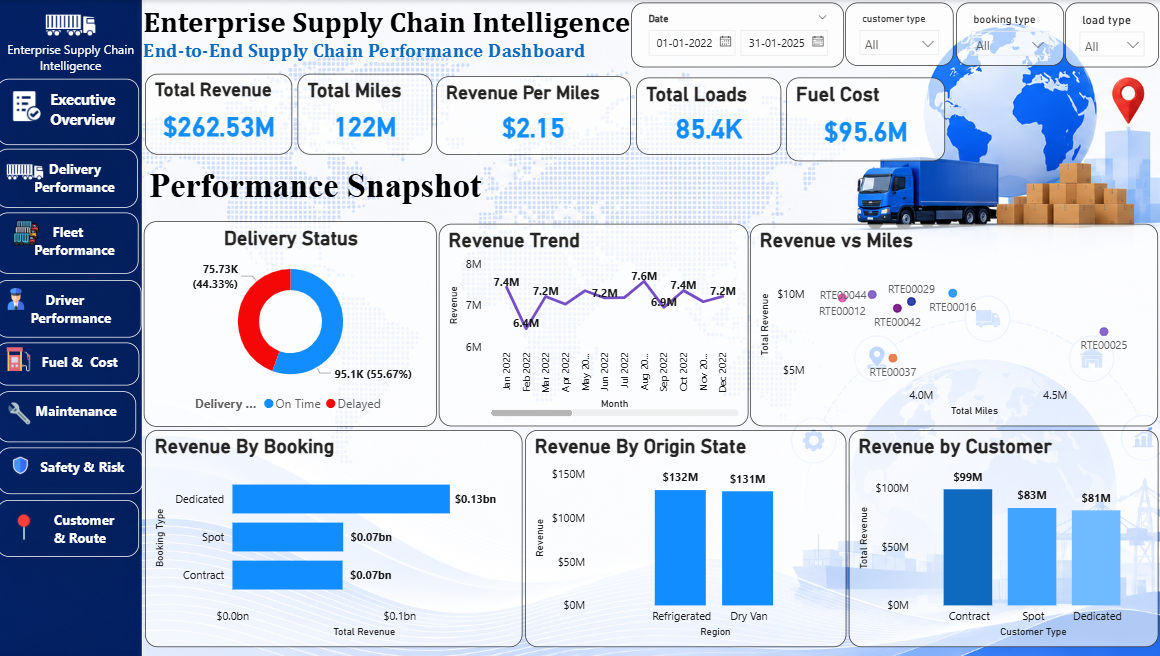

What the dashboard file says about the page in this screenshot:
{"tool":"powerbi","page":{"name":"Executive Overview","canvas":[1280,720],"ordinal":0},"visuals":[{"type":"textbox","box":[157.8,0,557.1,100.2],"z":0},{"type":"card","title":"Total Revenue","fields":{"Values":["All Measures.Total Revenue"]},"box":[164.8,80.5,161.9,89.2],"z":0,"group":"g10"},{"type":"clusteredColumnChart","title":"Revenue By Origin State","fields":{"Y":["All Measures.Total Revenue"],"Category":["FactLoadsTrips.load_type"]},"box":[581.9,472,352.8,238.1],"z":0,"group":"g12"},{"type":"textbox","box":[2.8,491.7,159.9,51.4],"z":0,"group":"g4"},{"type":"image","box":[1.4,0,163.3,54.9],"z":1000,"group":"g3"},{"type":"card","title":"Total Miles","fields":{"Values":["All Measures.Total Miles"]},"box":[332.5,80.5,147.8,88.8],"z":1000,"group":"g10"},{"type":"group","id":"g1","title":"Group 1","box":[0,163.6,156.4,64.5],"z":1000},{"type":"clusteredBarChart","title":"Revenue By Booking","fields":{"Category":["FactLoadsTrips.booking_type"],"Y":["All Measures.Total Revenue"]},"box":[164.7,472,414.4,238.1],"z":1000,"group":"g12"},{"type":"image","box":[8.6,501,39,19.7],"z":1000,"group":"g4"},{"type":"textbox","box":[1.4,40.3,163.3,47.6],"z":2000,"group":"g3"},{"type":"card","title":"Revenue Per Miles","fields":{"Values":["All Measures.Revenue Per Miles"]},"box":[484.6,83.2,213.2,86],"z":2000,"group":"g10"},{"type":"group","id":"g2","title":"Group 3","box":[1.4,85.8,156.4,72.7],"z":2000},{"type":"clusteredColumnChart","title":"Revenue by Customer","fields":{"Category":["DimCustomers.customer_type"],"Y":["All Measures.Total Revenue"]},"box":[937.4,472.6,340.2,238.1],"z":2000,"group":"g12"},{"type":"group","id":"g3","title":"Group 4","box":[1.4,0,163.3,87.8],"z":3000},{"type":"card","title":"Total Loads","fields":{"Values":["All Measures.Total Loads"]},"box":[703.5,84.6,159.2,84.7],"z":3000,"group":"g10"},{"type":"textbox","box":[1.4,548.7,157.1,62.6],"z":3000,"group":"g6"},{"type":"card","title":"Fuel Cost","fields":{"Values":["All Measures.Total Fuel Cost"]},"box":[868.4,84.2,174.3,91.9],"z":4000,"group":"g10"},{"type":"textbox","box":[1.4,429.2,153.7,56.3],"z":4000,"group":"g5"},{"type":"group","id":"g4","title":"Group 7","box":[2.8,491.7,159.9,51.4],"z":4000},{"type":"textbox","box":[0,376.2,158.5,47.3],"z":5000,"group":"g7"},{"type":"group","id":"g5","title":"Group 8","box":[1.4,429.2,153.7,56.3],"z":5000},{"type":"textbox","box":[1.4,85.8,156.4,72.7],"z":6000,"group":"g2"},{"type":"textbox","box":[0,307.4,160.5,63.1],"z":6000,"group":"g9"},{"type":"group","id":"g6","title":"Group 9","box":[1.4,548.7,157.1,62.6],"z":6000},{"type":"group","id":"g7","title":"Group 10","box":[0,374.9,158.5,48.7],"z":7000},{"type":"group","id":"g8","title":"Group 11","box":[0,233.1,157.8,67.2],"z":8000},{"type":"group","id":"g9","title":"Group 12","box":[0,306.8,160.5,63.7],"z":9000},{"type":"group","id":"g10","title":"Group 2","box":[164.8,80.5,877.9,95.6],"z":10000},{"type":"textbox","box":[0,233.1,157.8,67.2],"z":10000,"group":"g8"},{"type":"group","id":"g11","title":"Group 6","box":[163.3,242.5,1113.8,225.3],"z":11000},{"type":"group","id":"g12","title":"Group 13","box":[164.7,472,1112.9,238.8],"z":12000},{"type":"textbox","box":[0,163.6,156.4,64.5],"z":13000,"group":"g14"},{"type":"textbox","box":[164.7,177,419.9,64.5],"z":13000},{"type":"donutChart","title":"Delivery Status","fields":{"Category":["FactDeliveryEvents.Delivery Performance Status"],"Y":["CountNonNull(FactDeliveryEvents.event_id)"]},"box":[163.3,242.5,321.8,225.3],"z":13000,"group":"g11"},{"type":"image","box":[13.7,99.5,42.5,32.9],"z":13003,"group":"g2"},{"type":"image","box":[4.6,169.4,57.6,39.8],"z":13007,"group":"g14"},{"type":"group","id":"g13","title":"Group 14","box":[698.8,2.1,579.1,72],"z":14000},{"type":"slicer","fields":{"Values":["FactLoadsTrips.booking_type"]},"box":[1055.6,2.1,118,70],"z":14000,"group":"g13"},{"type":"lineChart","title":"Revenue Trend ","fields":{"Category":["Dim_Date.YearMonth"],"Y":["Sum(FactTruckUtilizationMetrics.total_revenue)"]},"box":[486.5,245.3,340,222.5],"z":14000,"group":"g11"},{"type":"slicer","fields":{"Values":["DimCustomers.customer_type"]},"box":[933.4,2.1,119.4,70],"z":15000,"group":"g13"},{"type":"slicer","fields":{"Values":["FactLoadsTrips.load_type"]},"box":[1175,2.1,102.9,71.4],"z":16000,"group":"g13"},{"type":"slicer","fields":{"Values":["Dim_Date.Date"]},"box":[698.8,2.7,233.3,71.4],"z":17000,"group":"g13"},{"type":"scatterChart","title":"Revenue vs Miles","fields":{"Y":["All Measures.Total Revenue"],"X":["All Measures.Total Miles"],"Series":["DimRoutes.route_id"]},"box":[829.3,245.3,447.7,222.5],"z":21004,"group":"g11"},{"type":"group","id":"g14","title":"Group 5","box":[0,163.6,156.4,64.5],"z":27001,"group":"g1"},{"type":"image","box":[12.5,440.9,29.2,23.6],"z":27002,"group":"g5"},{"type":"image","box":[11.1,306.8,23.6,41.7],"z":27006,"group":"g9"},{"type":"image","box":[4.2,242,59.8,29.2],"z":27007,"group":"g8"},{"type":"image","box":[18.3,563.8,28.2,29.6],"z":27008,"group":"g6"},{"type":"image","box":[11.2,374.9,29.3,39],"z":27010,"group":"g7"}]}

Visuals, with their boxes on the page's 1280x720 design canvas (x1, y1, x2, y2). These are canvas units, not pixel positions in the 1160x656 screenshot, which may show the page scaled, cropped or inside an application window:
textbox: bbox=[158, 0, 715, 100]
"Total Revenue" card: bbox=[165, 80, 327, 170]
"Revenue By Origin State" clusteredColumnChart: bbox=[582, 472, 935, 710]
textbox: bbox=[3, 492, 163, 543]
image: bbox=[1, 0, 165, 55]
"Total Miles" card: bbox=[332, 80, 480, 169]
"Group 1" group: bbox=[0, 164, 156, 228]
"Revenue By Booking" clusteredBarChart: bbox=[165, 472, 579, 710]
image: bbox=[9, 501, 48, 521]
textbox: bbox=[1, 40, 165, 88]
"Revenue Per Miles" card: bbox=[485, 83, 698, 169]
"Group 3" group: bbox=[1, 86, 158, 158]
"Revenue by Customer" clusteredColumnChart: bbox=[937, 473, 1278, 711]
"Group 4" group: bbox=[1, 0, 165, 88]
"Total Loads" card: bbox=[704, 85, 863, 169]
textbox: bbox=[1, 549, 158, 611]
"Fuel Cost" card: bbox=[868, 84, 1043, 176]
textbox: bbox=[1, 429, 155, 486]
"Group 7" group: bbox=[3, 492, 163, 543]
textbox: bbox=[0, 376, 158, 424]
"Group 8" group: bbox=[1, 429, 155, 486]
textbox: bbox=[1, 86, 158, 158]
textbox: bbox=[0, 307, 160, 370]
"Group 9" group: bbox=[1, 549, 158, 611]
"Group 10" group: bbox=[0, 375, 158, 424]
"Group 11" group: bbox=[0, 233, 158, 300]
"Group 12" group: bbox=[0, 307, 160, 370]
"Group 2" group: bbox=[165, 80, 1043, 176]
textbox: bbox=[0, 233, 158, 300]
"Group 6" group: bbox=[163, 242, 1277, 468]
"Group 13" group: bbox=[165, 472, 1278, 711]
textbox: bbox=[0, 164, 156, 228]
textbox: bbox=[165, 177, 585, 242]
"Delivery Status" donutChart: bbox=[163, 242, 485, 468]
image: bbox=[14, 100, 56, 132]
image: bbox=[5, 169, 62, 209]
"Group 14" group: bbox=[699, 2, 1278, 74]
slicer - FactLoadsTrips.booking_type: bbox=[1056, 2, 1174, 72]
"Revenue Trend " lineChart: bbox=[486, 245, 826, 468]
slicer - DimCustomers.customer_type: bbox=[933, 2, 1053, 72]
slicer - FactLoadsTrips.load_type: bbox=[1175, 2, 1278, 74]
slicer - Dim_Date.Date: bbox=[699, 3, 932, 74]
"Revenue vs Miles" scatterChart: bbox=[829, 245, 1277, 468]
"Group 5" group: bbox=[0, 164, 156, 228]
image: bbox=[12, 441, 42, 464]
image: bbox=[11, 307, 35, 348]
image: bbox=[4, 242, 64, 271]
image: bbox=[18, 564, 46, 593]
image: bbox=[11, 375, 40, 414]
